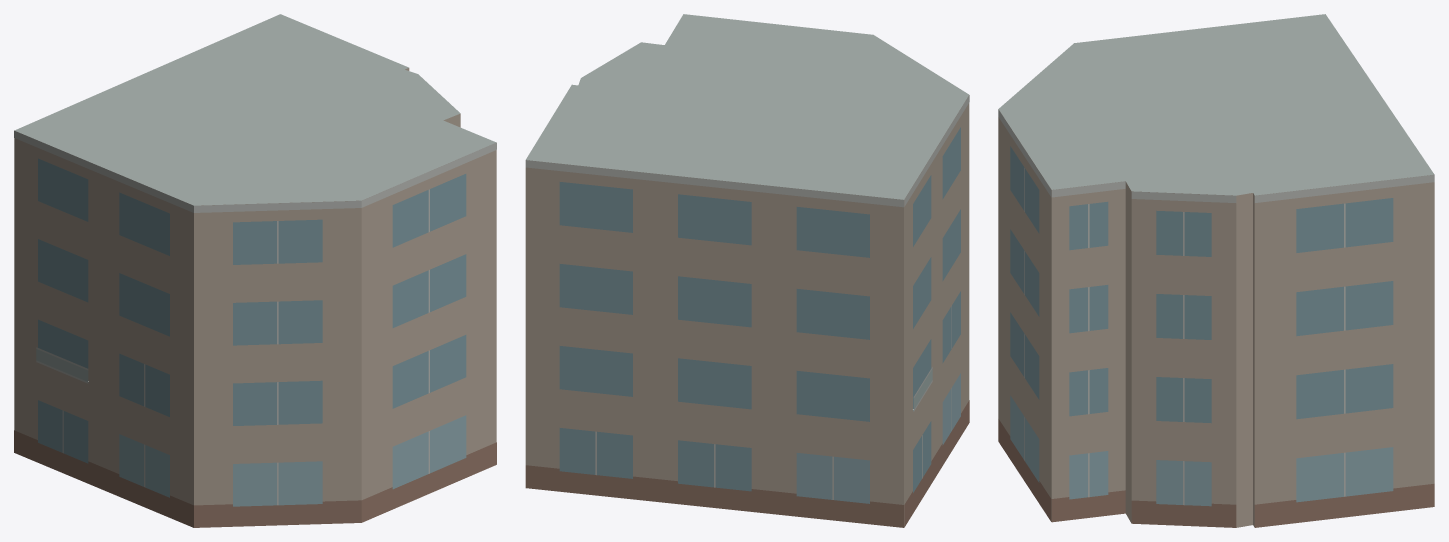
File: survey-upis-32511335.glb
3 renders of one model, left to right at view 1: azimuth 30°, elevation 25°; view 2: azimuth 150°, elevation 25°; view 3: azimuth 270°, elevation 25°, orthographic. The views are drawn at different scales.
Visible parts, largest first — view 1: survey-upis-32511335.tmp; view 2: survey-upis-32511335.tmp; view 3: survey-upis-32511335.tmp.
Boxes of the visible parts, left/top/right/bottom form: survey-upis-32511335.tmp: left=14, top=14, right=496, bottom=527; survey-upis-32511335.tmp: left=525, top=14, right=969, bottom=527; survey-upis-32511335.tmp: left=998, top=14, right=1434, bottom=527.
Bounding box in the file's own units: 12.55 × 10.7 × 12.74.
